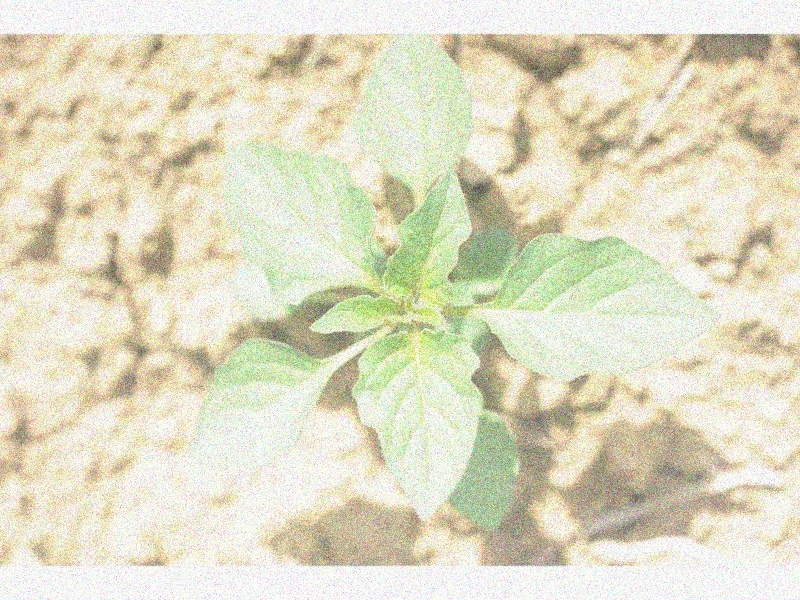nightshade: (185, 33, 717, 524)
